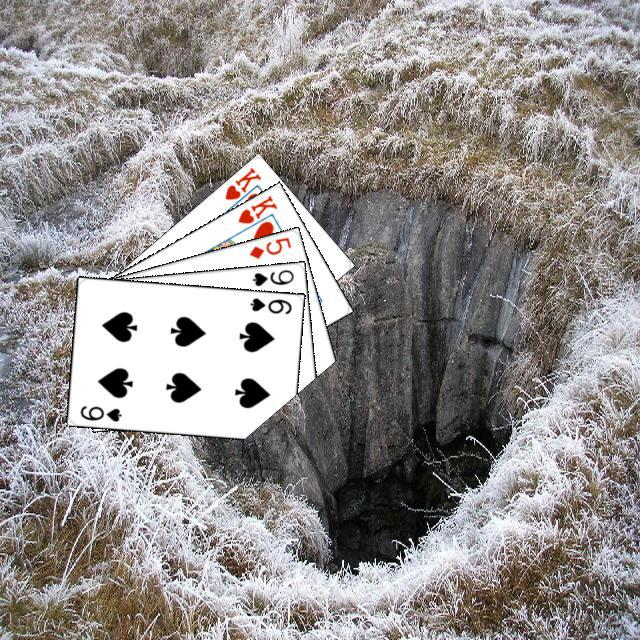5d: (244, 232, 293, 260)
6s: (245, 293, 293, 315), (75, 401, 123, 423)
9s: (248, 264, 295, 288)
Kh: (220, 162, 263, 212), (233, 190, 279, 235)
